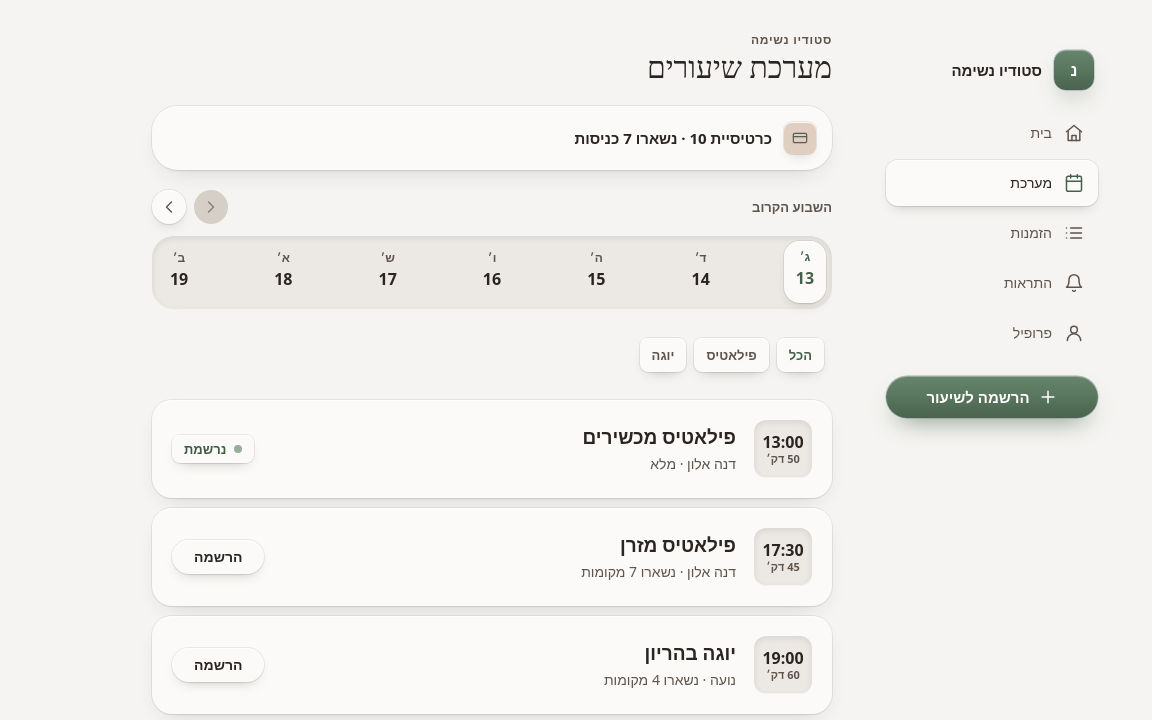
it: booking a class › says the membership is frozen, and until when, instead of offering to book
Click the button with aria-label "הרשמה לשיעור יוגה בהריון ב-19:00".
click(218, 665)  # box [172, 648, 264, 682]
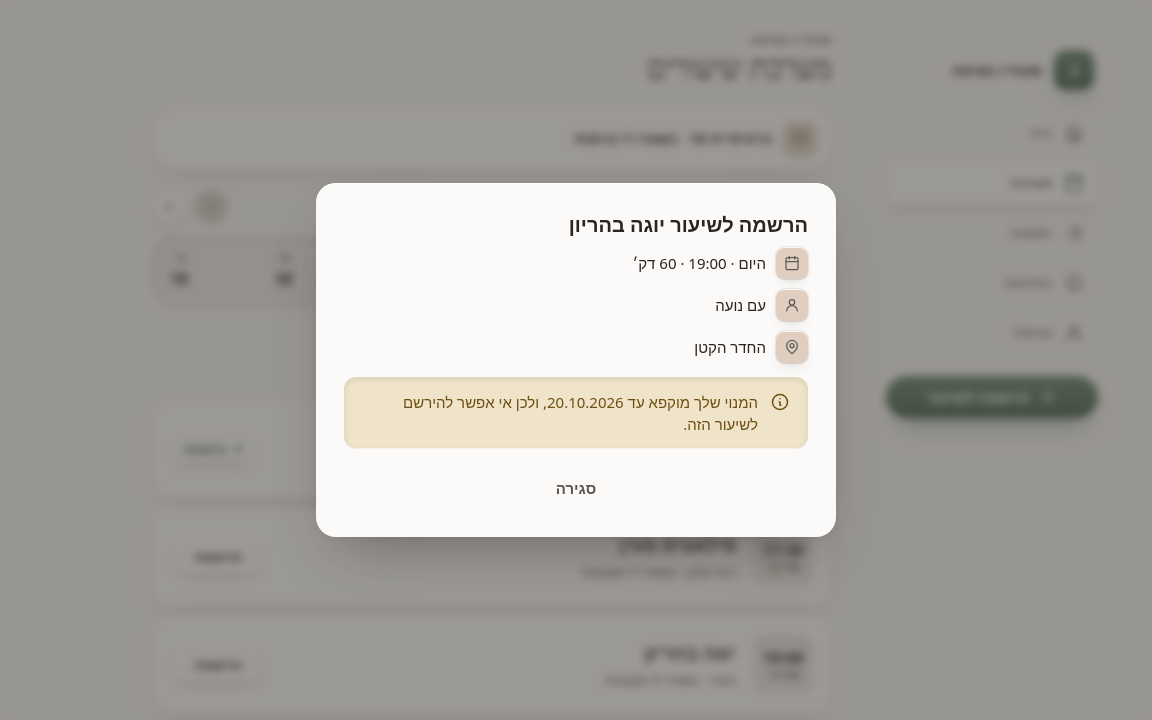
Expected: the message reads "המנוי שלך מוקפא עד 20.10.2026, ולכן אי אפשר להירשם לשיעור הזה.", [403, 392, 758, 434]
